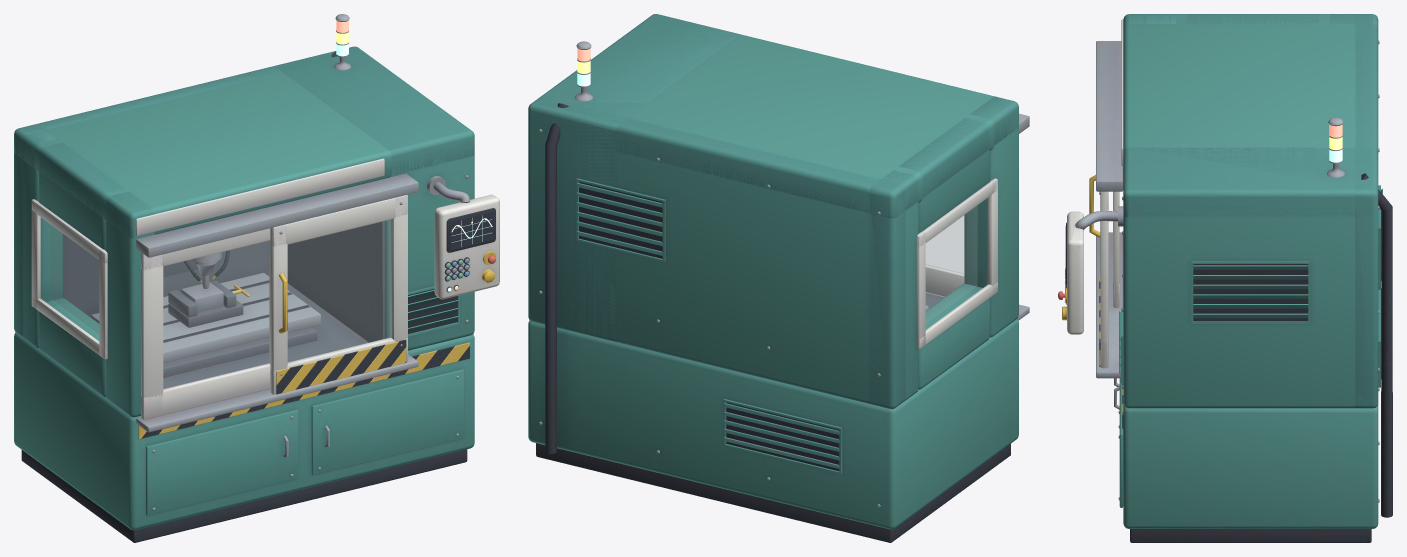
Rendered from cnc-enclosed-lod1.glb.
3 views of the same model, side by side, from view 1: azimuth 30°, elevation 25°; view 2: azimuth 150°, elevation 25°; view 3: azimuth 270°, elevation 25° (orthographic). The views are drawn at different scales.
Parts seen in each view (by area): view 1: cnc_component_149, cnc_component_383, cnc-machine_window_glass, cnc-machine_door_glass, cnc-machine_door, cnc_component_445, cnc_component_006, cnc_component_136, cnc_component_539, cnc_component_380, cnc_component_141, cnc_component_660 (+16 smaller); view 2: cnc_component_149, cnc_component_383, cnc_component_380, cnc_component_660, cnc-machine_side_glass, cnc_component_339, cnc_component_659, cnc_component_693, cnc_component_051, cnc_component_499, cnc-machine_window_glass, cnc_component_538 (+2 smaller); view 3: cnc_component_149, cnc_component_383, cnc_component_427, cnc_component_339, cnc_component_206, cnc_component_380, cnc_component_174, cnc_component_209, cnc-machine_door, cnc_component_660, cnc_component_428, cnc_component_533 (+8 smaller).
Boxes of the visible parts, x1=… form: cnc_component_149: x1=14, y1=46, x2=474, y2=417; cnc_component_383: x1=14, y1=332, x2=474, y2=530; cnc-machine_window_glass: x1=163, y1=241, x2=269, y2=389; cnc-machine_door_glass: x1=288, y1=220, x2=391, y2=362; cnc-machine_door: x1=270, y1=195, x2=407, y2=394; cnc_component_445: x1=147, y1=410, x2=298, y2=515; cnc_component_006: x1=312, y1=370, x2=463, y2=475; cnc_component_136: x1=287, y1=222, x2=382, y2=342; cnc_component_539: x1=143, y1=228, x2=270, y2=419; cnc_component_380: x1=21, y1=449, x2=467, y2=542; cnc_component_141: x1=63, y1=234, x2=269, y2=317; cnc_component_660: x1=39, y1=142, x2=120, y2=250; cnc_component_149: x1=528, y1=14, x2=1018, y2=409; cnc_component_383: x1=528, y1=319, x2=1018, y2=529; cnc_component_380: x1=536, y1=443, x2=1010, y2=542; cnc_component_660: x1=899, y1=118, x2=989, y2=233; cnc-machine_side_glass: x1=926, y1=206, x2=977, y2=322; cnc_component_339: x1=545, y1=103, x2=568, y2=453; cnc_component_659: x1=918, y1=284, x2=989, y2=389; cnc_component_693: x1=919, y1=179, x2=997, y2=348; cnc_component_051: x1=579, y1=181, x2=662, y2=258; cnc_component_499: x1=726, y1=402, x2=839, y2=471; cnc-machine_window_glass: x1=926, y1=216, x2=963, y2=273; cnc_component_538: x1=925, y1=267, x2=964, y2=296; cnc_component_149: x1=1123, y1=14, x2=1378, y2=408; cnc_component_383: x1=1123, y1=404, x2=1378, y2=528; cnc_component_427: x1=1193, y1=264, x2=1308, y2=321; cnc_component_339: x1=1362, y1=174, x2=1392, y2=517; cnc_component_206: x1=1096, y1=41, x2=1122, y2=181; cnc_component_380: x1=1130, y1=529, x2=1371, y2=542; cnc_component_174: x1=1096, y1=232, x2=1122, y2=372; cnc_component_209: x1=1067, y1=211, x2=1083, y2=334; cnc-machine_door: x1=1089, y1=175, x2=1108, y2=368; cnc_component_660: x1=1187, y1=14, x2=1319, y2=23; cnc_component_428: x1=1191, y1=262, x2=1310, y2=323; cnc_component_533: x1=1113, y1=191, x2=1119, y2=307.
Size of the model in its own units: 2.55 by 2.65 by 1.97.
Materials: 14 (2 with a texture image).
